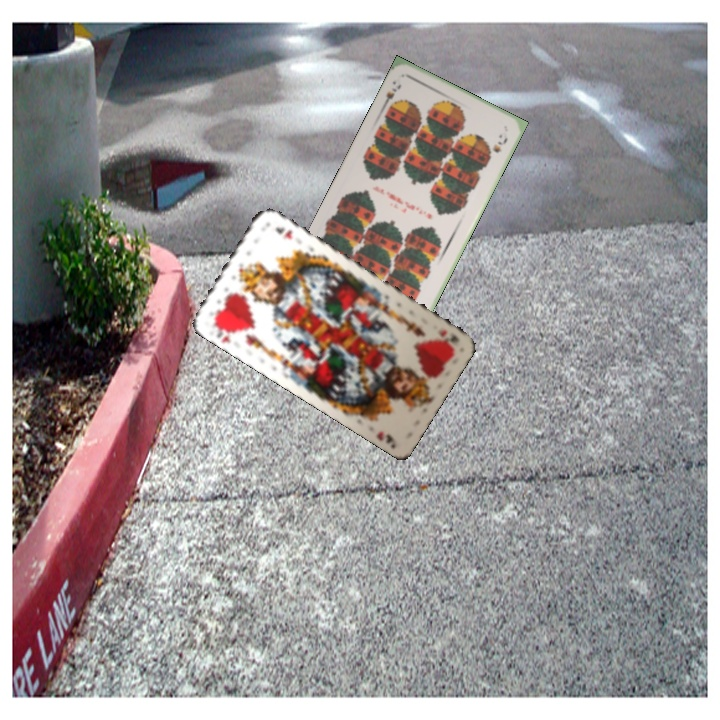HK: (208, 315, 237, 346), (434, 326, 462, 345)
S9: (378, 80, 404, 113)
